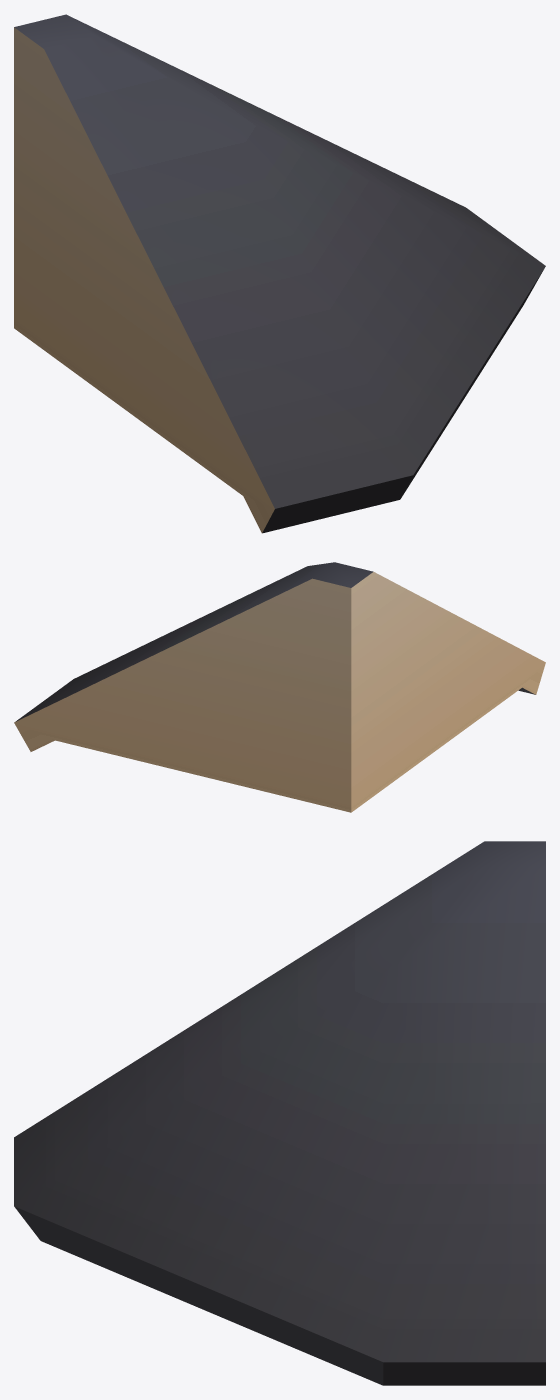
The model's file is roof-slanted-corner-a.glb.
3 renders of one model, top to bottom at view 1: azimuth 30°, elevation 25°; view 2: azimuth 150°, elevation 25°; view 3: azimuth 270°, elevation 25°, orthographic. The views are drawn at different scales.
Visible parts, largest first — view 1: roof-slanted-corner-a; view 2: roof-slanted-corner-a; view 3: roof-slanted-corner-a.
Part boxes in pixels (<box>): roof-slanted-corner-a: <box>14,14,545,533</box>; roof-slanted-corner-a: <box>14,562,545,812</box>; roof-slanted-corner-a: <box>14,841,545,1385</box>.
Size of the model in its own units: 1.14 by 0.782 by 1.14.
1 material, 1 textured.
